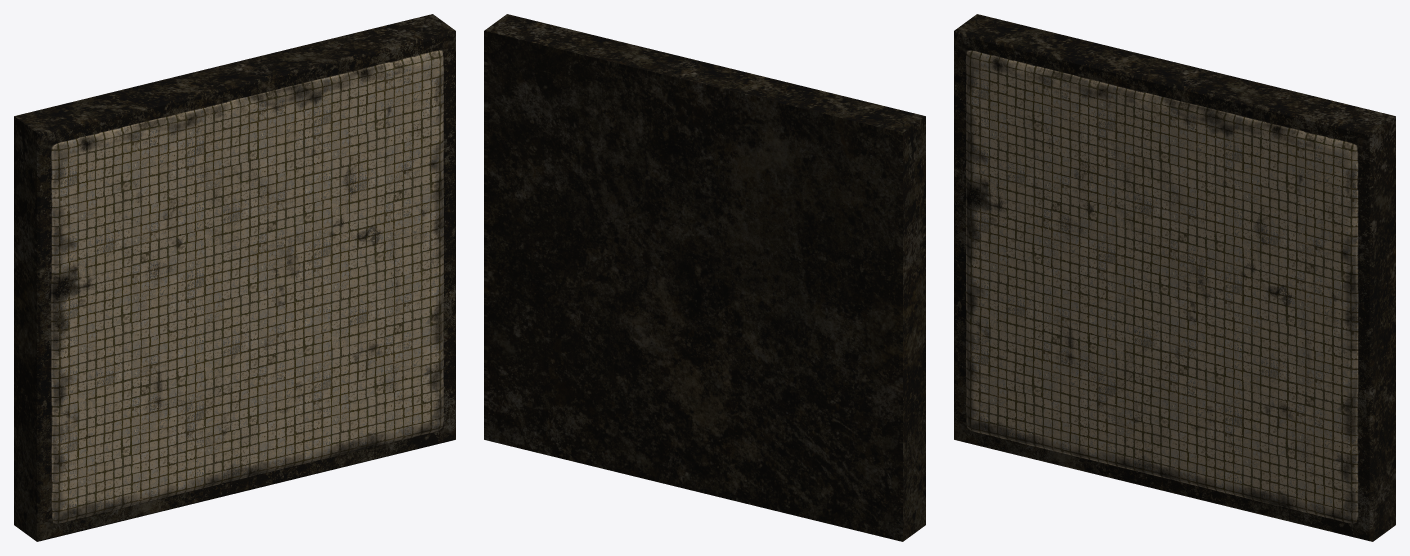
File: SM_WallPlain02.FBX
3 views of the same model, side by side, from view 1: azimuth 30°, elevation 25°; view 2: azimuth 150°, elevation 25°; view 3: azimuth 330°, elevation 25° (orthographic).
Visible parts, largest first — view 1: SM_WallPlain02_LOD0; view 2: SM_WallPlain02_LOD0; view 3: SM_WallPlain02_LOD0.
Boxes of the visible parts, x1,y1,x2,y2 form: SM_WallPlain02_LOD0: (14,14,455,541); SM_WallPlain02_LOD0: (484,14,925,541); SM_WallPlain02_LOD0: (954,14,1395,541).
Bounding box in the file's own units: 300 × 32.04 × 280.
